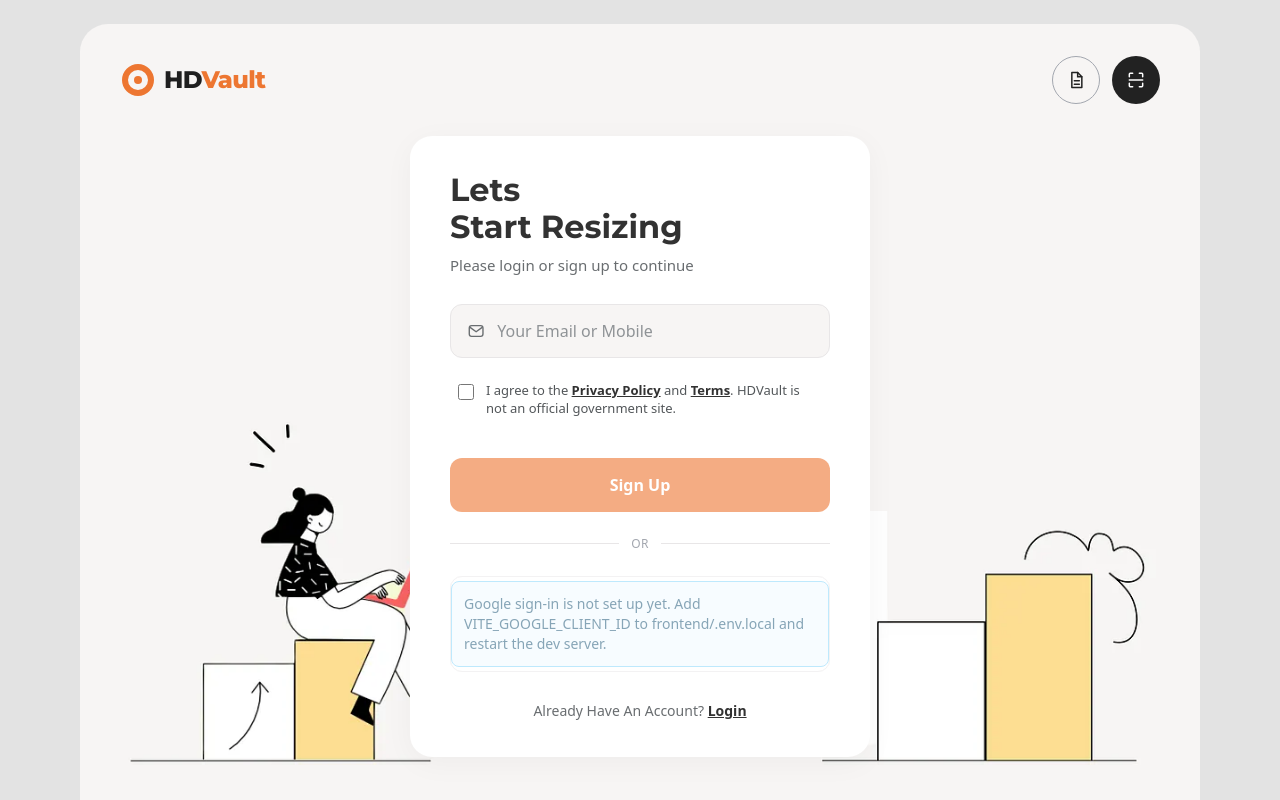
Test: login page › the Login option hides the consent box
Expected: the form named "Sign Up" is shown, [450, 304, 830, 512]
Step 1. Click the button "Login" → (727, 710), box [708, 700, 747, 721]
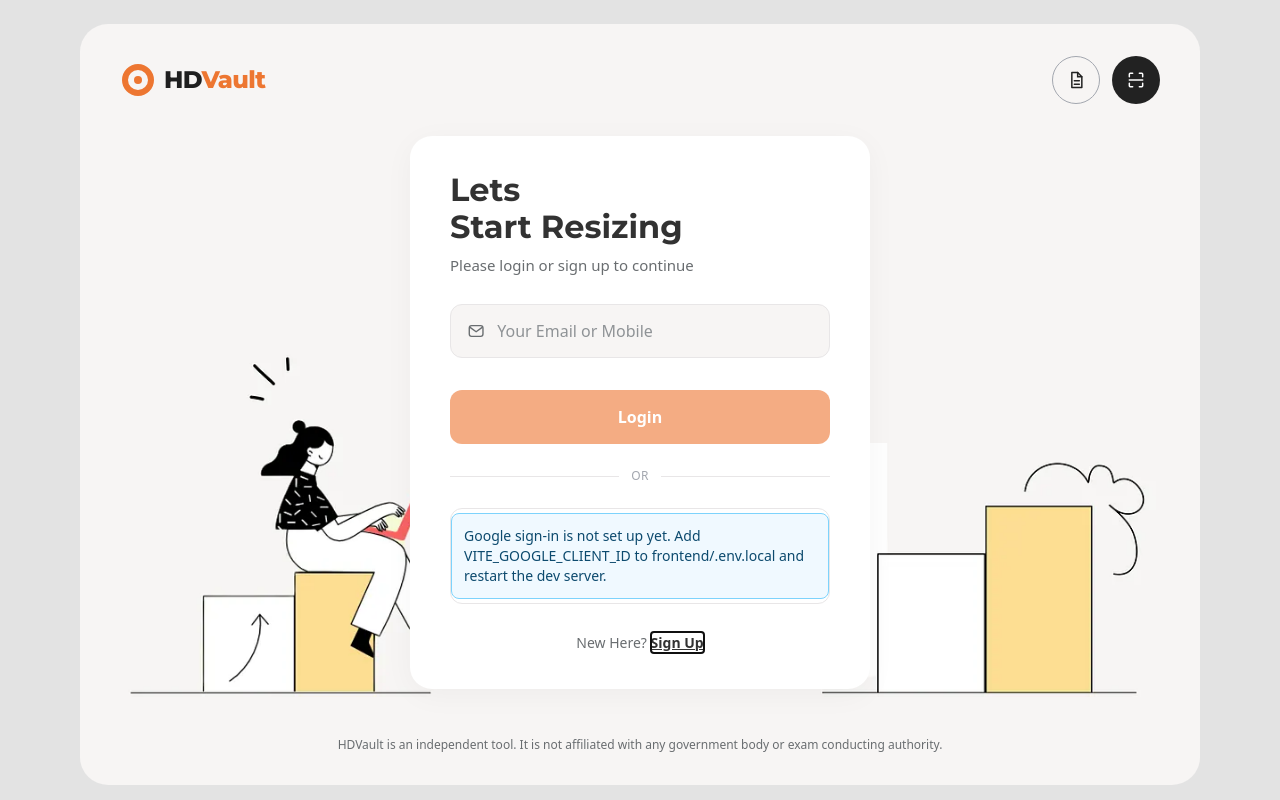
Expected: the form "Login" is shown, [450, 304, 830, 444]
Expected: the checkbox is gone
